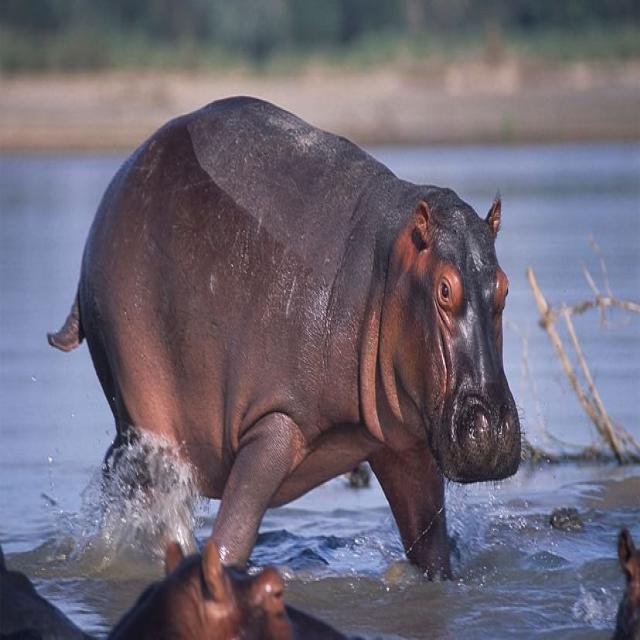Hippopotamus: (61, 94, 526, 578)
